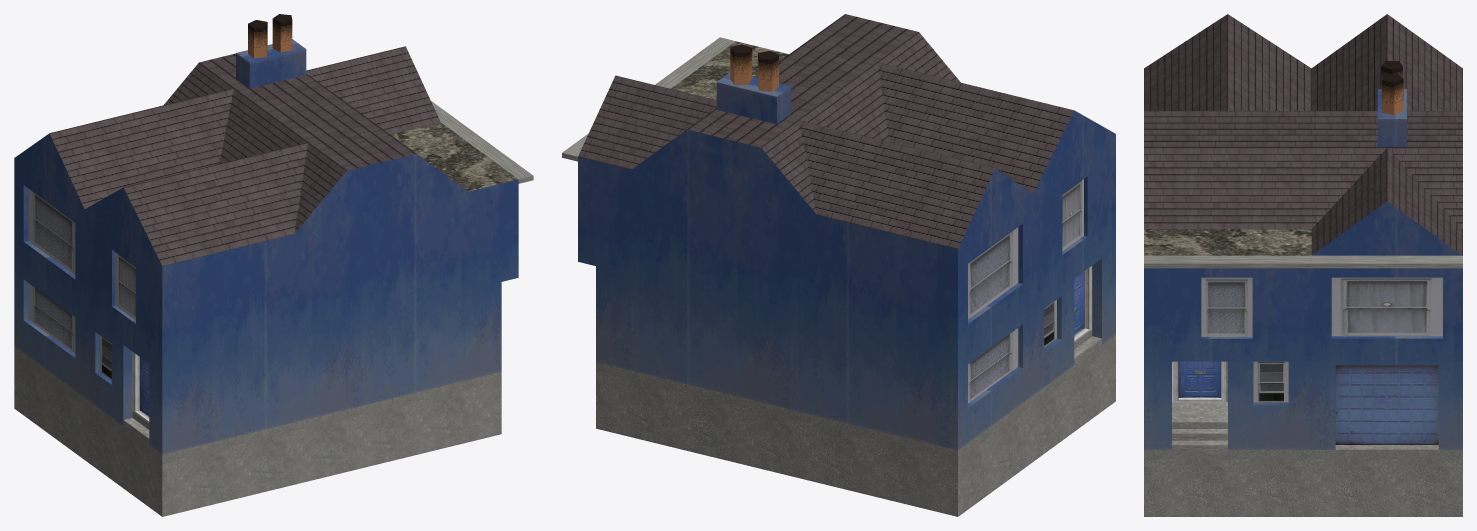
Rendered from box_hse_08_sfxrf.obj.
The picture shows the model from 3 angles, left to right: view 1: azimuth 30°, elevation 25°; view 2: azimuth 150°, elevation 25°; view 3: azimuth 270°, elevation 25°; orthographic projection. The views are drawn at different scales.
Parts seen in each view (by area): view 1: box_hse_08_SFXRF; view 2: box_hse_08_SFXRF; view 3: box_hse_08_SFXRF.
Part boxes in pixels (x1,y1,x2,y2): box_hse_08_SFXRF: [14, 14, 533, 516]; box_hse_08_SFXRF: [562, 14, 1115, 516]; box_hse_08_SFXRF: [1144, 14, 1462, 516].
Size of the model in its own units: 12.42 by 11.41 by 8.58.
